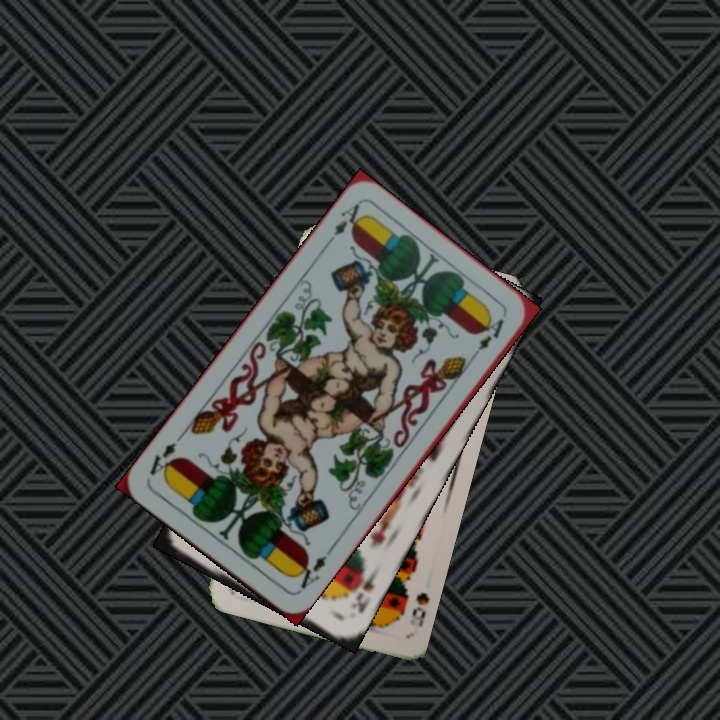EA: (288, 544, 335, 595), (321, 199, 366, 250)
S8: (408, 588, 432, 630)
SK: (347, 562, 380, 616)
